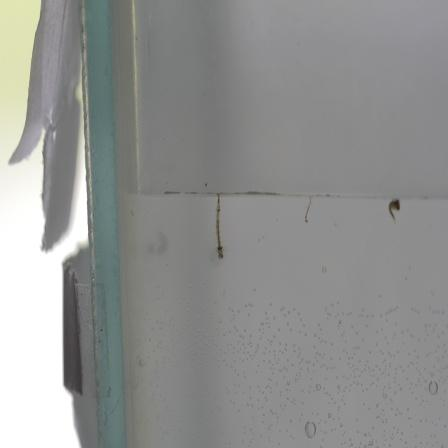Jentik-Nyamuk: (210, 193, 228, 263), (296, 194, 318, 227), (381, 194, 405, 222)
